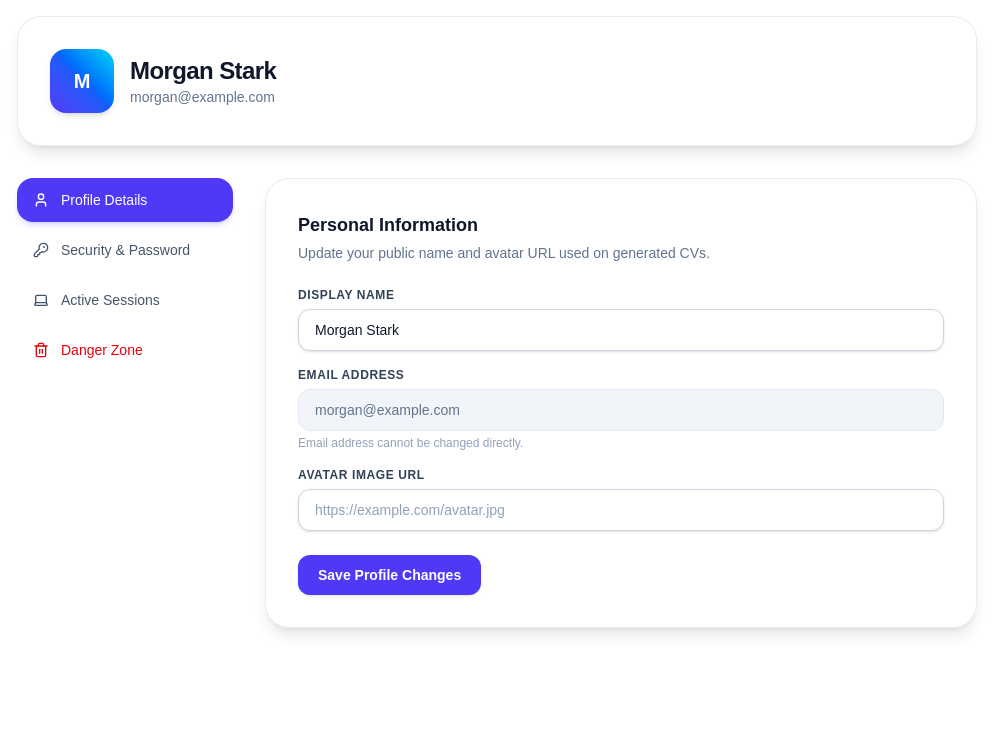
Test: AccountDashboard (Ticket 05) › updates user profile name on submit
Replace the text in the field labelled "Display Name" with "Morgan H. Stark": (621, 330) [298,309,944,351]
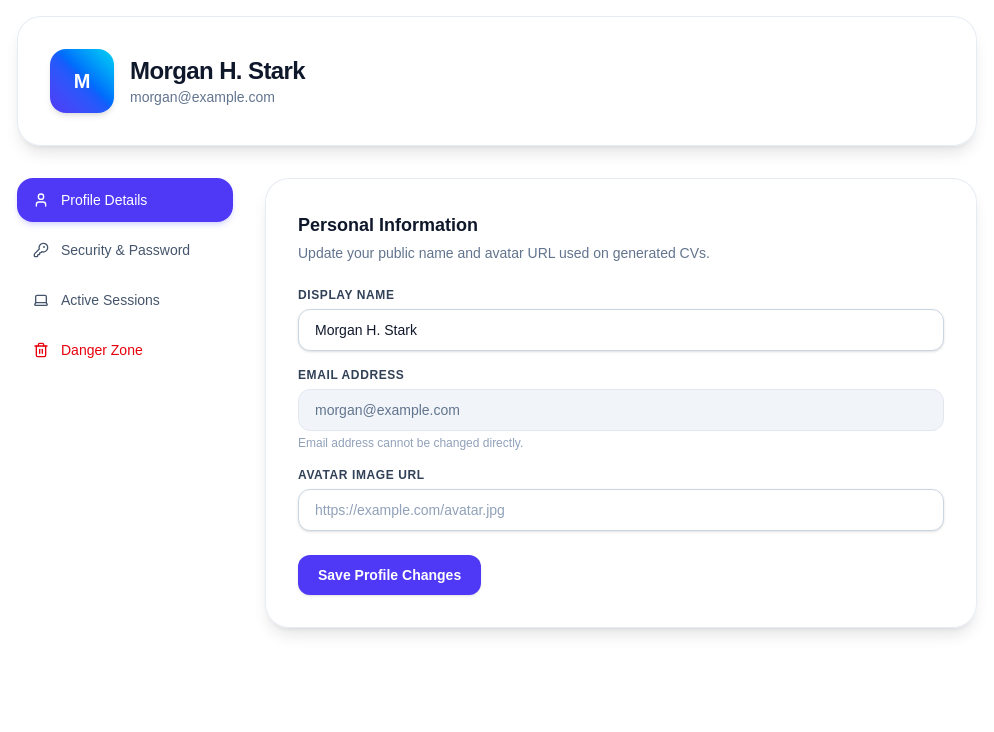
Click the button with test id "profile-save-btn": (390, 575) [298,555,481,595]
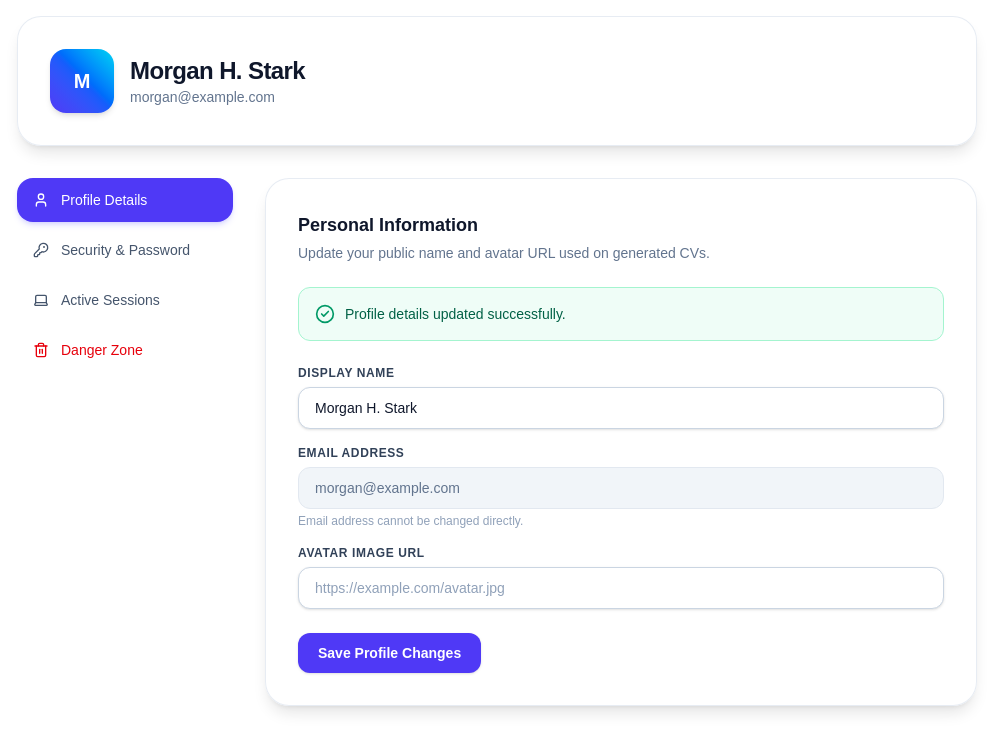
Expected: the message with test id "profile-success-alert" shows "Profile details updated successfully", [345,306,566,322]
